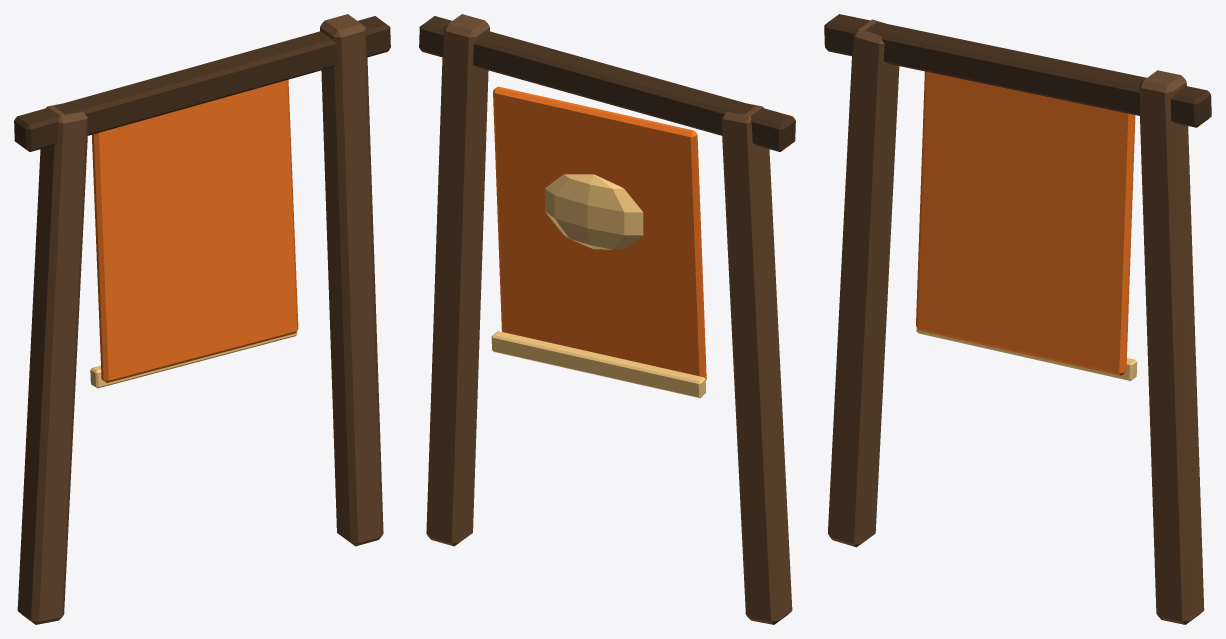
File: spawn_gate.fbx
3 renders of one model, left to right at view 1: azimuth 30°, elevation 25°; view 2: azimuth 150°, elevation 25°; view 3: azimuth 330°, elevation 25°, orthographic. The views are drawn at different scales.
Parts seen in each view (by area): view 1: Prop; view 2: Prop; view 3: Prop.
Boxes of the visible parts, <box> form: Prop: <box>14,14,390,624</box>; Prop: <box>419,14,795,624</box>; Prop: <box>824,14,1211,624</box>.
Size of the model in its own units: 1.1 by 0.1542 by 1.51.
